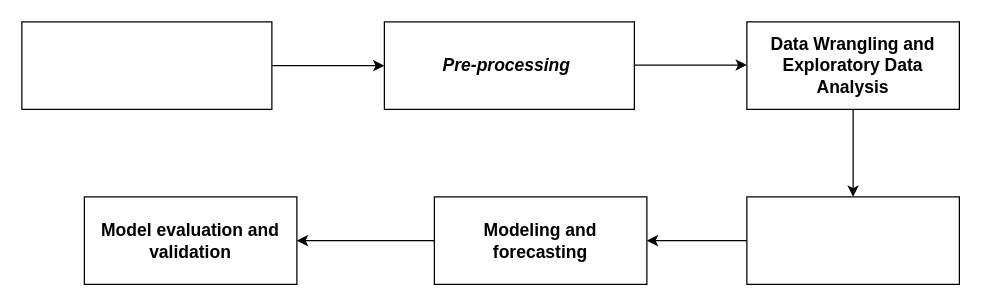
Image size: 981x306. Some labels were removed from this diagram. Here are the shapes that lost their labels. From the top down, the centre of each, then its label:
(146,65): Data collection process
(852,240): Data Selection
